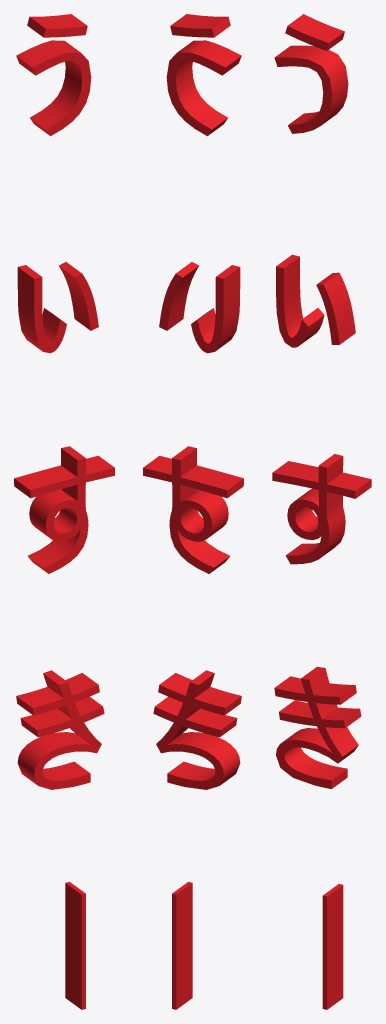
File: whisky_kana.fbx
3 renders of one model, left to right at view 1: azimuth 30°, elevation 25°; view 2: azimuth 150°, elevation 25°; view 3: azimuth 330°, elevation 25°, orthographic.
Visible parts, largest first — view 1: node_id45 (×5); view 2: node_id45 (×5); view 3: node_id45 (×5).
Boxes of the visible parts, box(x1,y1,x2,y2) form: node_id45 (×5): box(14, 14, 114, 1009); node_id45 (×5): box(143, 14, 243, 1009); node_id45 (×5): box(272, 14, 371, 1009).
Size of the model in its own units: 0.0892 by 0.9987 by 0.03.
